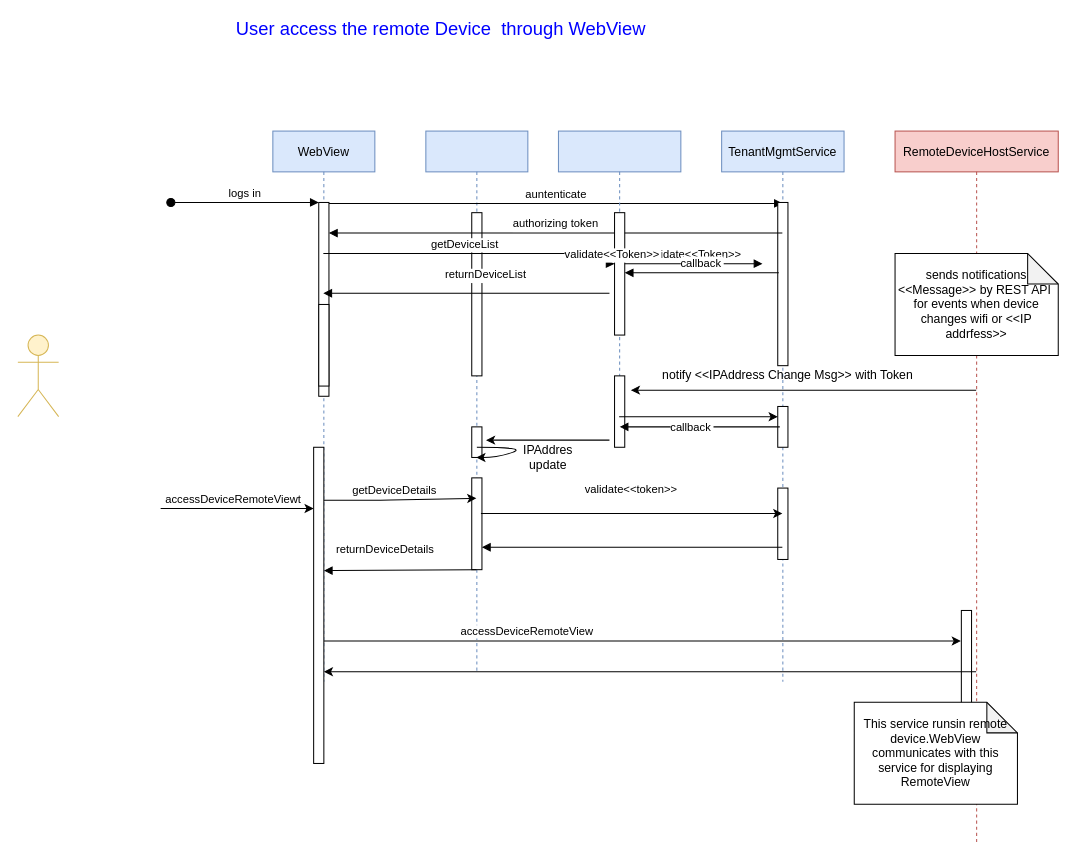
Image size: 1076x863. Some labels were removed from this diagram. Here are the shapes that lost their labels. From the top down, the centre of each, then its label:
At point (619, 283): "ReadServer".
At point (38, 375): "Actor".
At point (476, 401): "DeviceRegistration".
